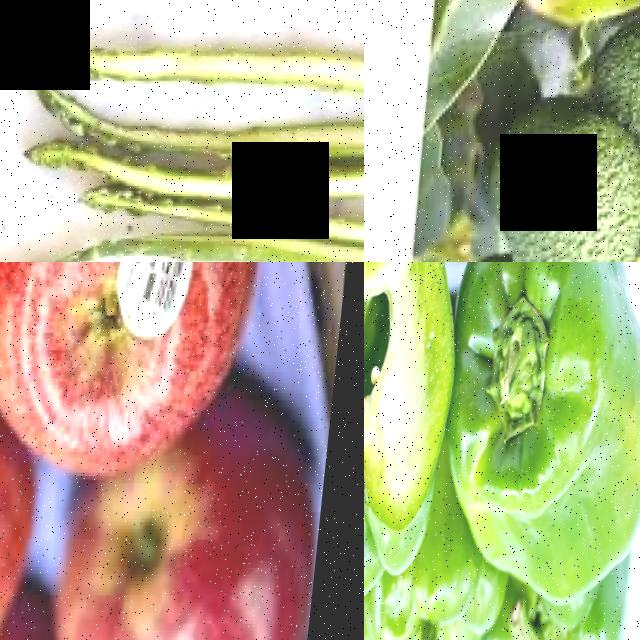apple: (54, 397, 340, 640), (0, 262, 291, 484), (0, 430, 62, 640)
asparagus: (78, 93, 364, 168), (36, 241, 364, 262)
avocado: (474, 98, 640, 262), (587, 11, 640, 145)
bell pepper: (477, 262, 640, 563), (364, 262, 474, 573), (382, 535, 534, 640), (538, 577, 640, 640)
